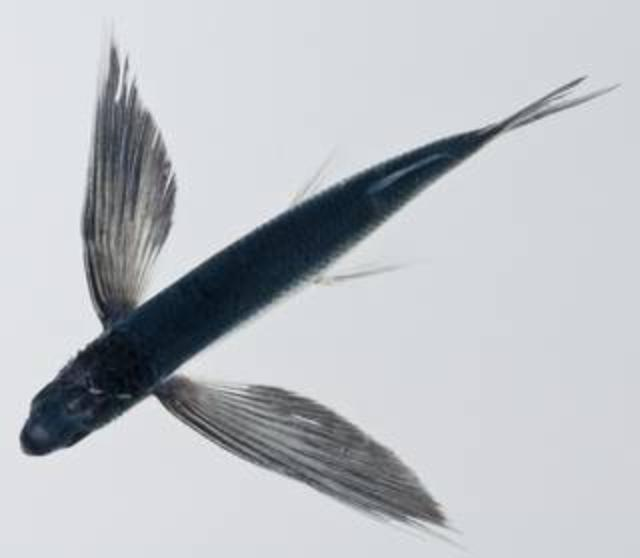Sirip Dada: (136, 350, 492, 558), (70, 16, 202, 350)
Sirip Perut: (276, 136, 418, 316)
Sirip Punggung: (464, 63, 632, 158), (348, 137, 464, 211)
